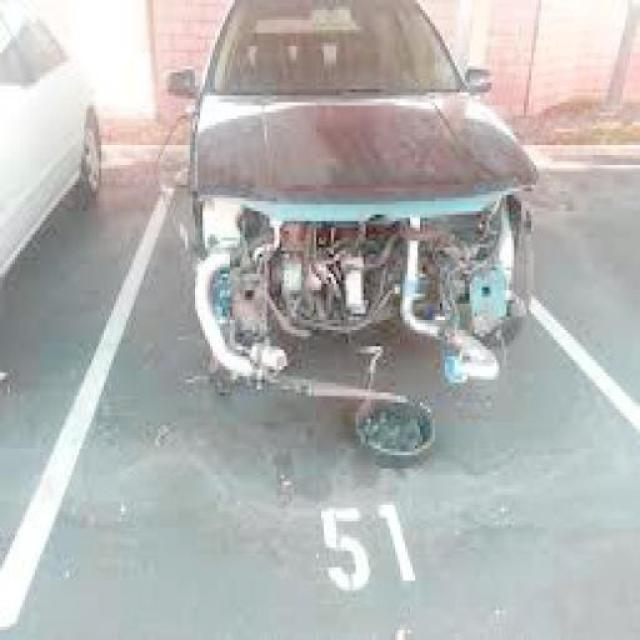car damage: (190, 174, 542, 396)
